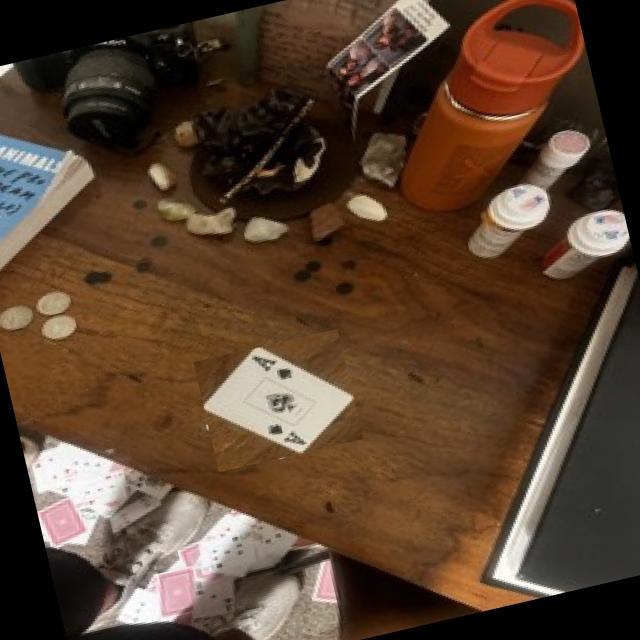Ace of spades: (202, 348, 351, 453)
